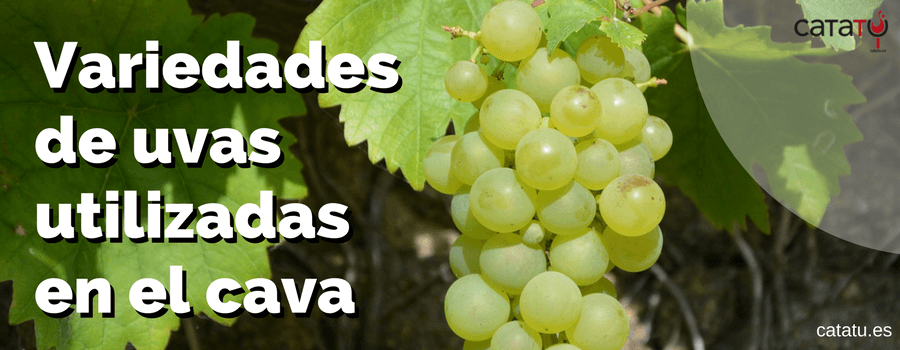Green grapes: (442, 33, 638, 350)
